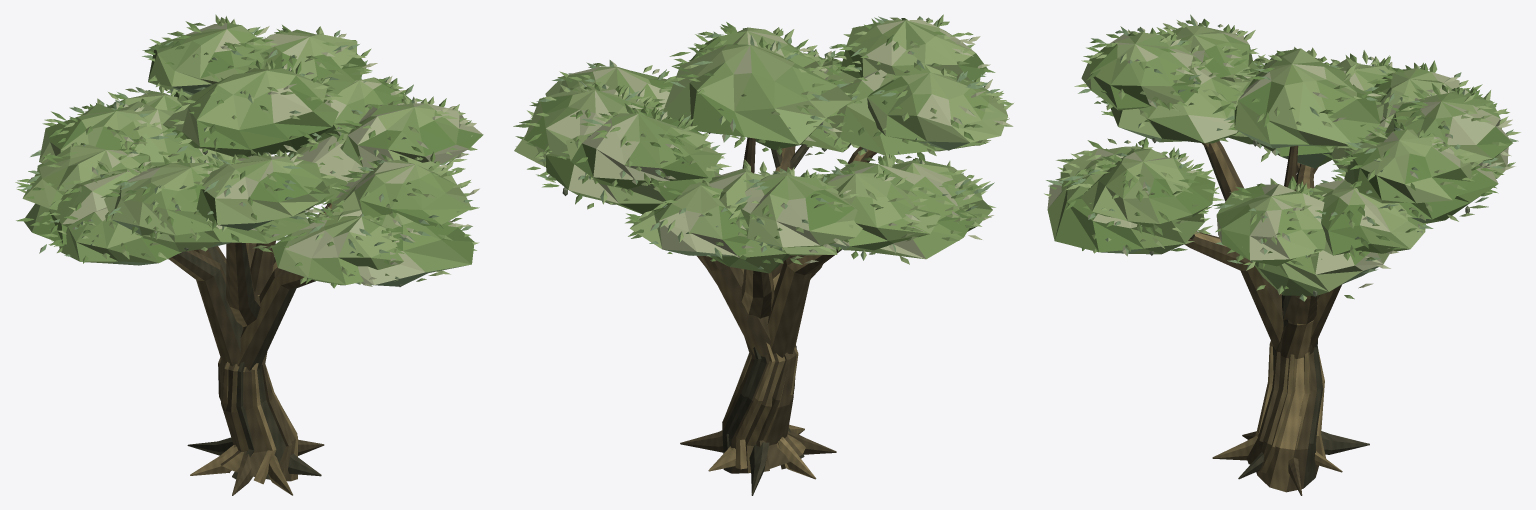
The model's file is olive.glb.
3 views of the same model, side by side, from view 1: azimuth 30°, elevation 25°; view 2: azimuth 150°, elevation 25°; view 3: azimuth 270°, elevation 25° (orthographic). The views are drawn at different scales.
Parts seen in each view (by area): view 1: JordanOlive; view 2: JordanOlive; view 3: JordanOlive.
Part boxes in pixels (x1,y1,x2,y2): JordanOlive: (15, 14, 483, 495); JordanOlive: (513, 14, 1013, 495); JordanOlive: (1044, 14, 1520, 495).
Bounding box in the file's own units: 5.31 × 4.89 × 5.09.
Materials: 11 (4 with a texture image).
